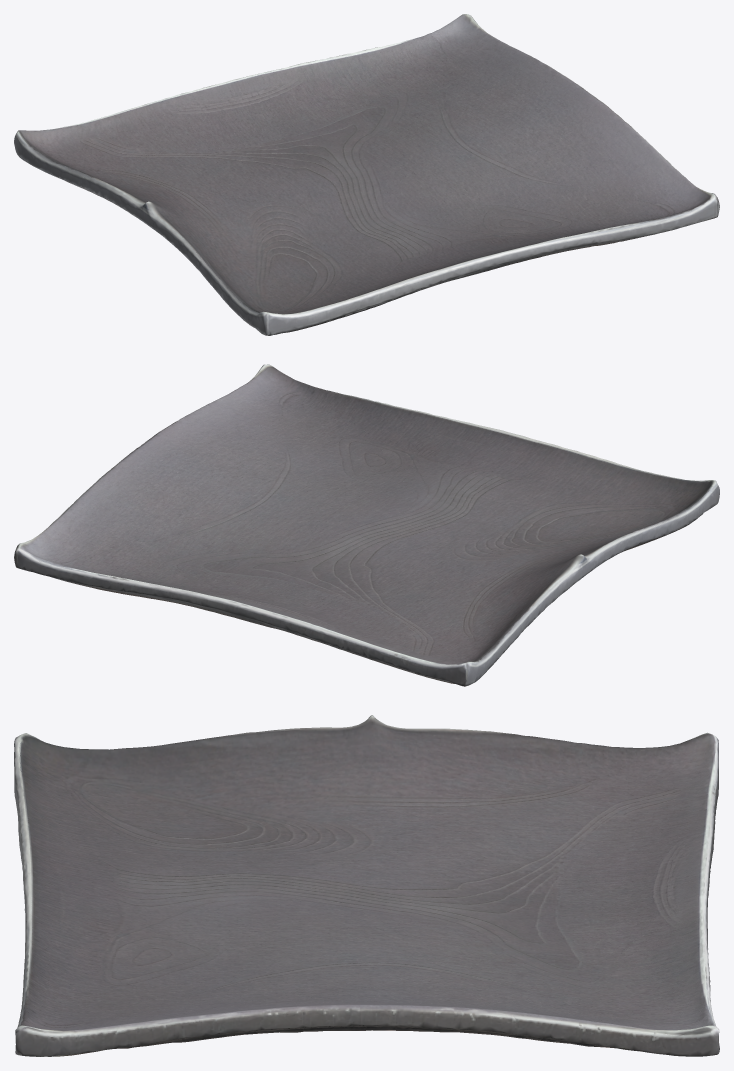
Rendered from DDP_캐노피.glb.
The picture shows the model from 3 angles, top to bottom: view 1: azimuth 30°, elevation 25°; view 2: azimuth 150°, elevation 25°; view 3: azimuth 270°, elevation 25°; orthographic projection. The views are drawn at different scales.
Visible parts, largest first — view 1: texture_mapping; view 2: texture_mapping; view 3: texture_mapping.
Boxes of the visible parts, x1,y1,x2,y2 form: texture_mapping: (14,14,719,335); texture_mapping: (14,364,719,686); texture_mapping: (14,715,719,1056).
Bounding box in the file's own units: 0.9976 × 0.1199 × 0.9672.
1 material, 1 textured.
